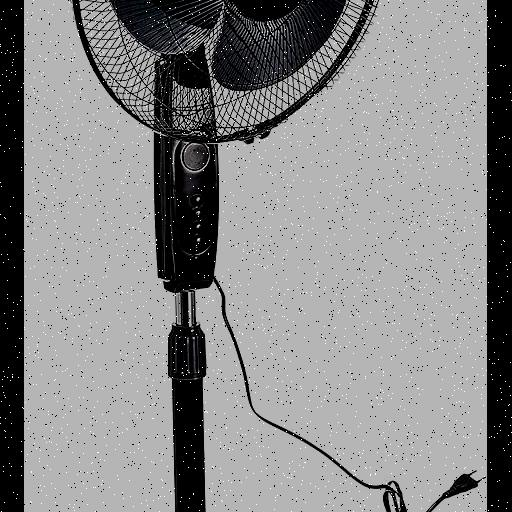Fan: (70, 0, 394, 144)
